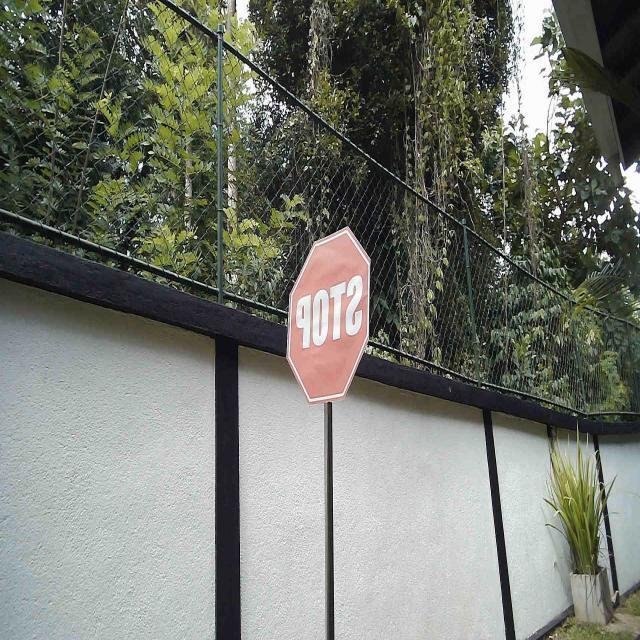stop: (284, 222, 373, 408)
